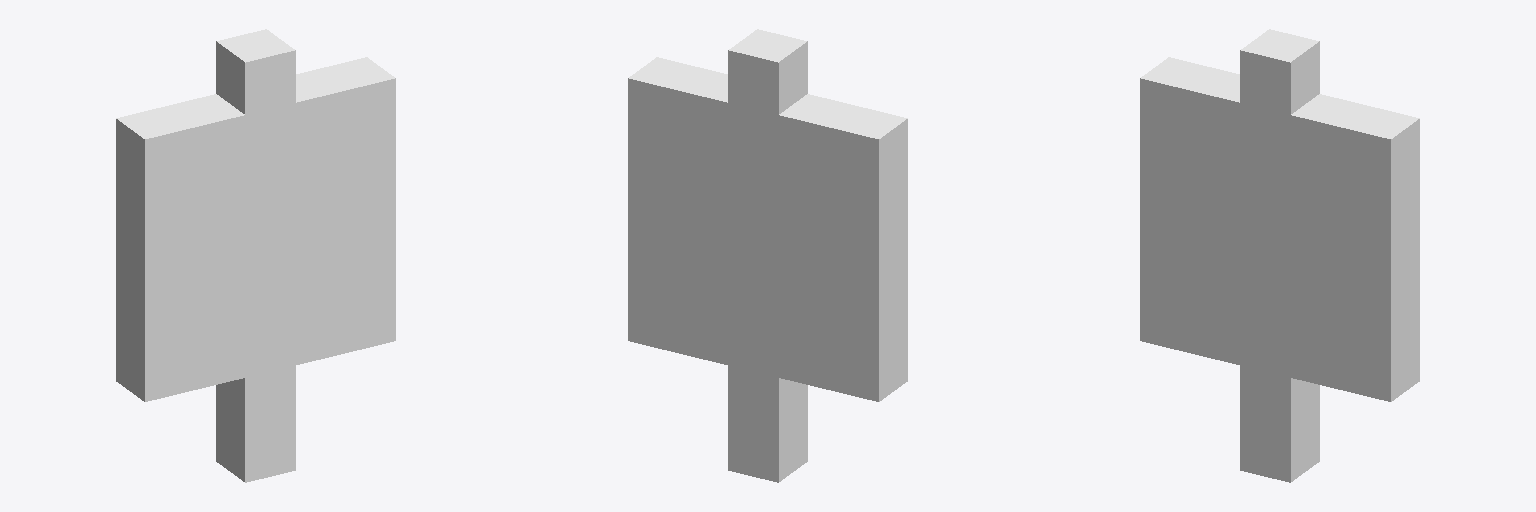
The model's file is skewers2.obj.
The picture shows the model from 3 angles: view 1: azimuth 30°, elevation 25°; view 2: azimuth 150°, elevation 25°; view 3: azimuth 330°, elevation 25°; orthographic projection.
Visible parts, largest first — view 1: object 1; view 2: object 1; view 3: object 1.
Boxes of the visible parts, x1=… form: object 1: x1=116, y1=29, x2=395, y2=482; object 1: x1=628, y1=29, x2=907, y2=482; object 1: x1=1140, y1=29, x2=1419, y2=482.
Bounding box in the file's own units: 0.5 × 0.8 × 0.1.